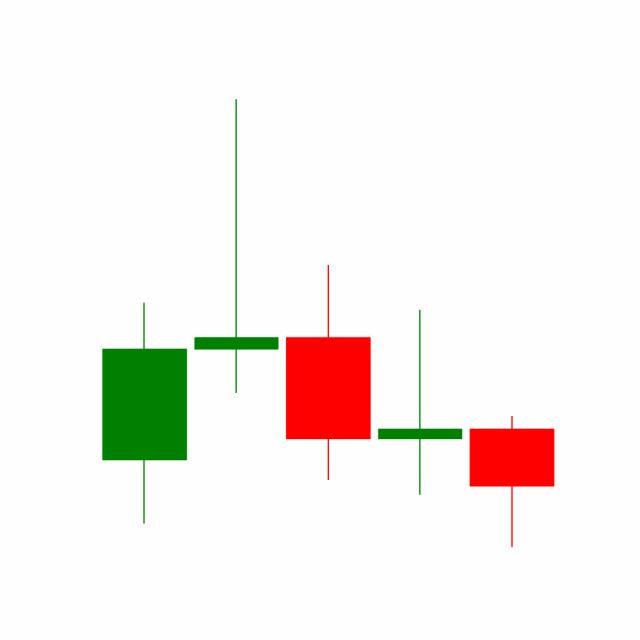Hammer: (464, 414, 558, 548)
